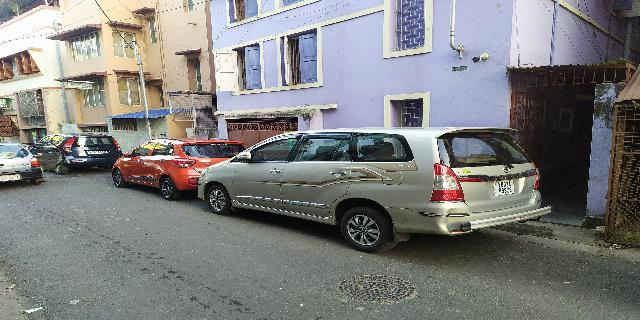Car: (200, 114, 542, 258), (106, 128, 248, 198), (27, 121, 116, 175), (1, 136, 50, 189)
